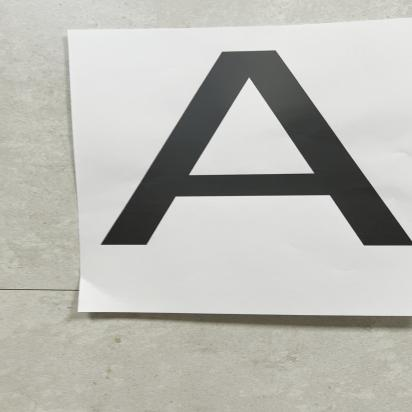seat: (92, 46, 412, 254)
